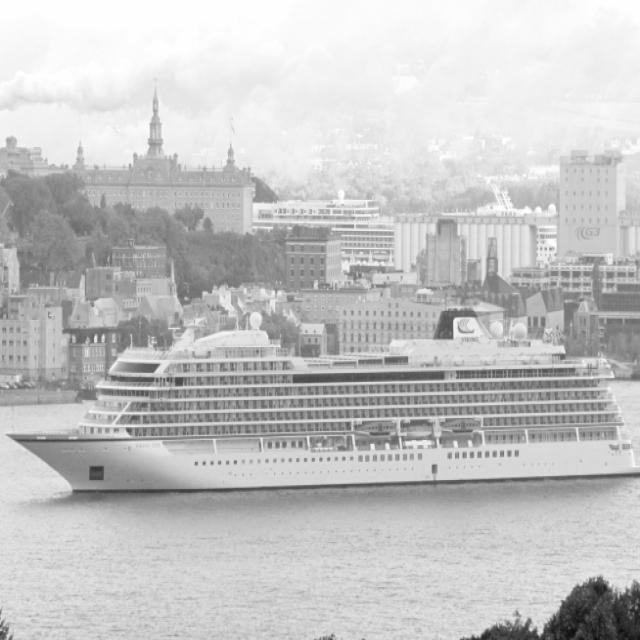cruises: (3, 296, 640, 498)
